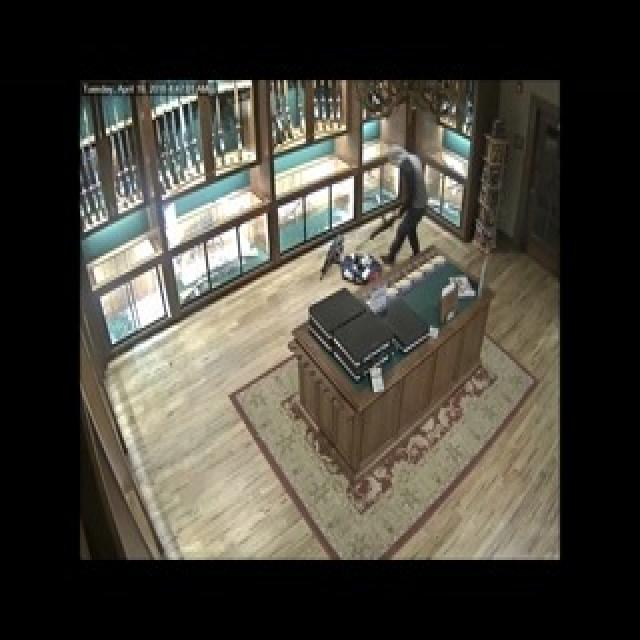thief: (379, 136, 434, 247)
